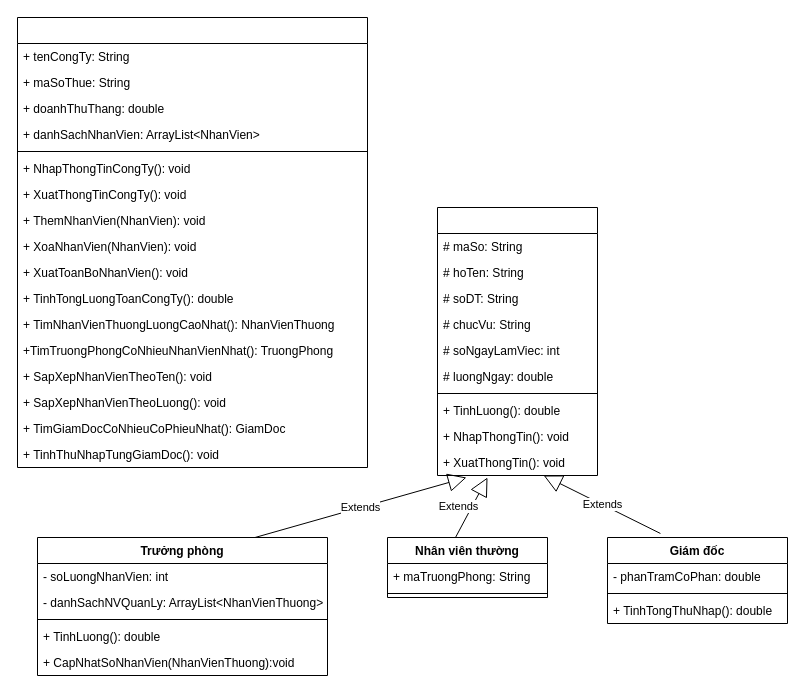
The diagram is 805 pixels wide and 696 high, and some of its shapes have lost their labels. Each missing label, with the box of its shape:
Công Ty: (16, 16, 368, 468)
Nhân Viên: (436, 206, 598, 476)
